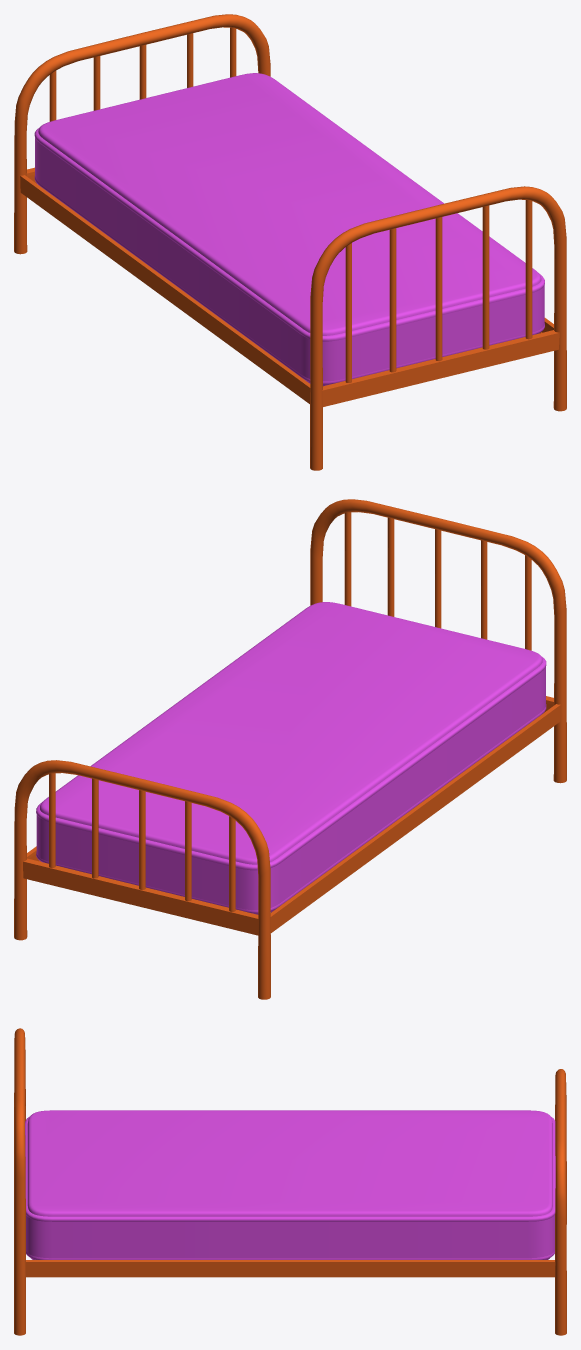
Rendered from bed2AR.glb.
3 views of the same model, one above another, from view 1: azimuth 30°, elevation 25°; view 2: azimuth 150°, elevation 25°; view 3: azimuth 270°, elevation 25° (orthographic). The views are drawn at different scales.
Visible parts, largest first — view 1: Box001, Cylinder001; view 2: Box001, Cylinder001; view 3: Box001, Cylinder001.
Boxes of the visible parts, bbox=[...] form: Box001: bbox=[34, 73, 544, 386]; Cylinder001: bbox=[14, 14, 566, 470]; Box001: bbox=[36, 602, 546, 914]; Cylinder001: bbox=[14, 499, 566, 999]; Box001: bbox=[25, 1110, 555, 1259]; Cylinder001: bbox=[14, 1028, 566, 1335].
Size of the model in its own units: 1.12 by 0.9761 by 2.31.
